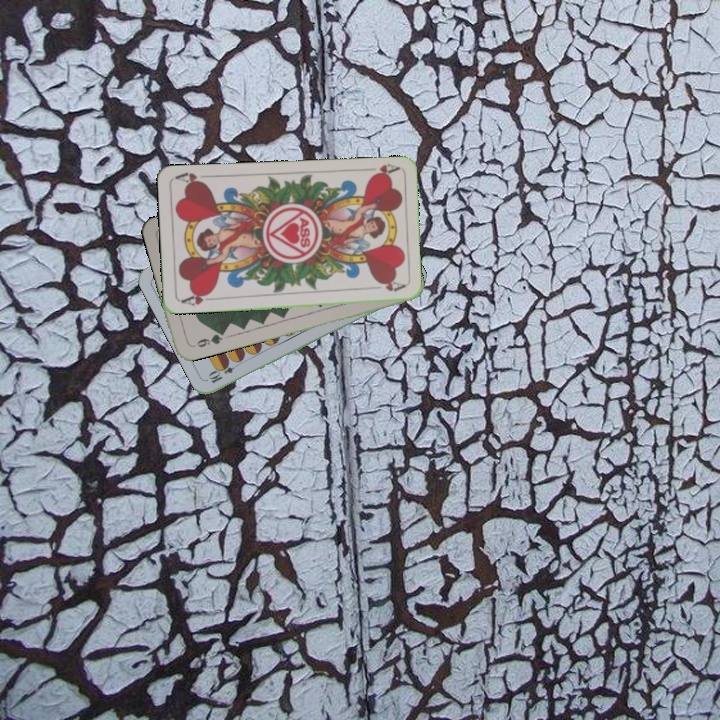E10: (205, 357, 243, 386)
G9: (187, 328, 226, 350)
HA: (360, 160, 401, 180), (177, 288, 217, 308)
